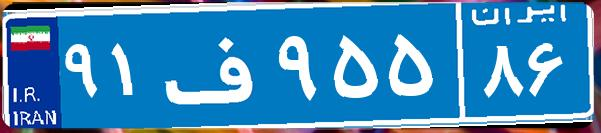1: (110, 28, 158, 105)
5: (385, 28, 445, 110), (330, 28, 385, 110)
6: (525, 38, 570, 115)
8: (475, 38, 525, 113)
9: (273, 28, 330, 110), (57, 26, 110, 107)
ف: (158, 15, 273, 115)
